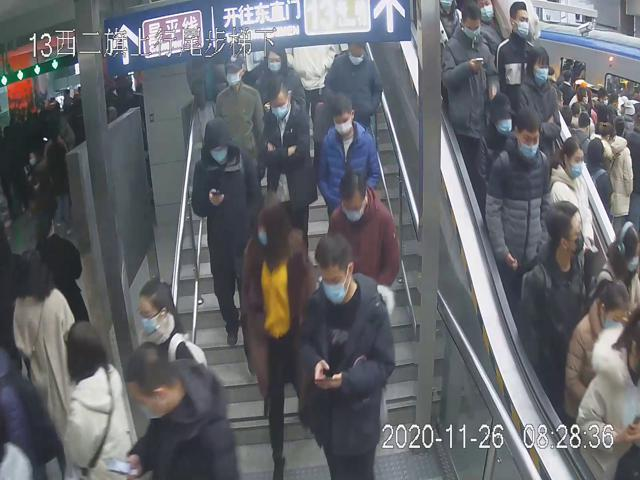person: (297, 232, 396, 480), (237, 196, 319, 480), (192, 115, 263, 356), (483, 106, 551, 299), (326, 167, 403, 317), (443, 0, 501, 184), (261, 72, 316, 260), (314, 88, 379, 230), (211, 46, 262, 184), (324, 32, 382, 132), (253, 44, 311, 121)
